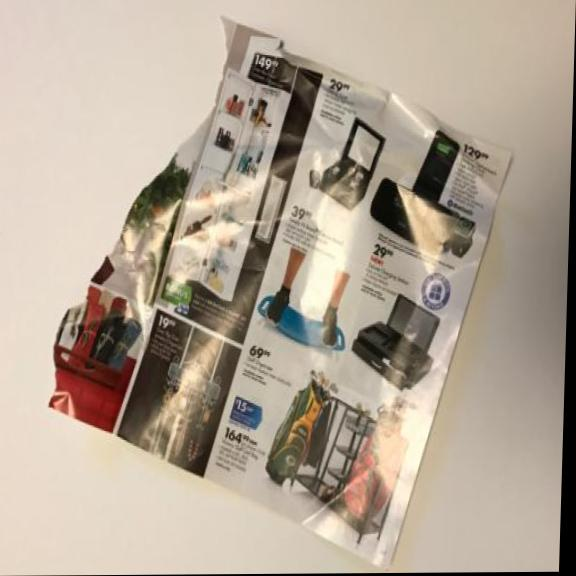Kertas: (34, 4, 537, 570)
